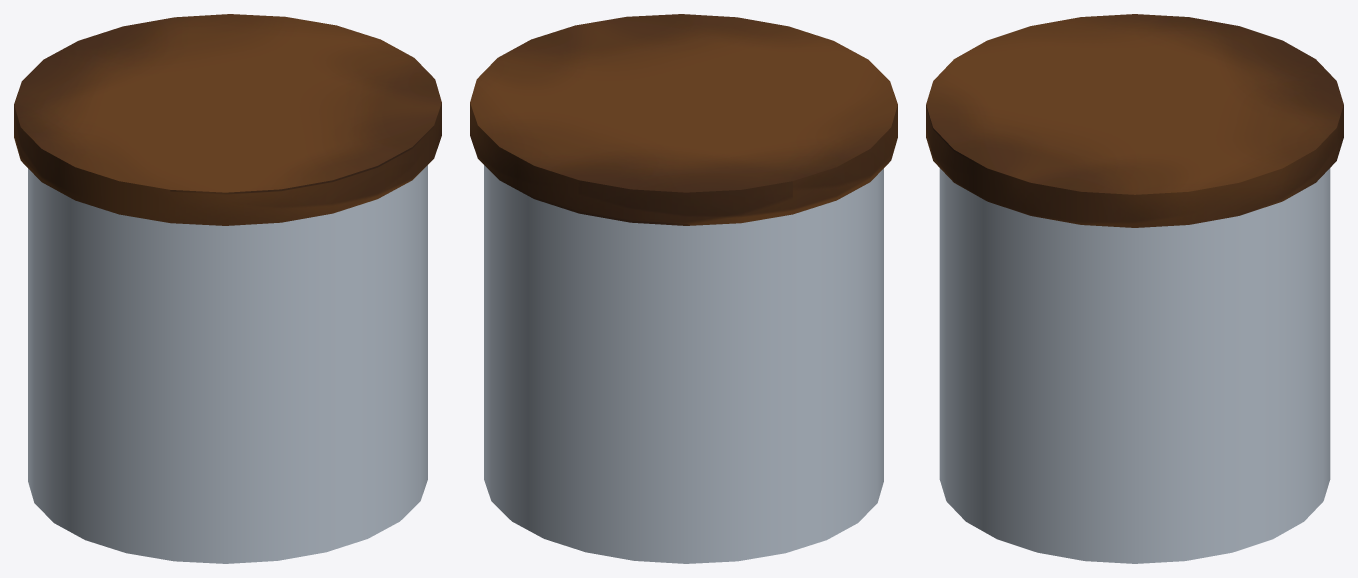
The model's file is eye ball jar.glb.
The picture shows the model from 3 angles, left to right: view 1: azimuth 30°, elevation 25°; view 2: azimuth 150°, elevation 25°; view 3: azimuth 270°, elevation 25°; orthographic projection.
Visible parts, largest first — view 1: Cylinder; view 2: Cylinder; view 3: Cylinder.
Boxes of the visible parts, left/top/right/bottom form: Cylinder: left=14, top=14, right=441, bottom=563; Cylinder: left=470, top=14, right=897, bottom=563; Cylinder: left=926, top=14, right=1343, bottom=563.
Size of the model in its own units: 0.1292 by 0.1249 by 0.1261.
Materials: 6 (5 with a texture image).
